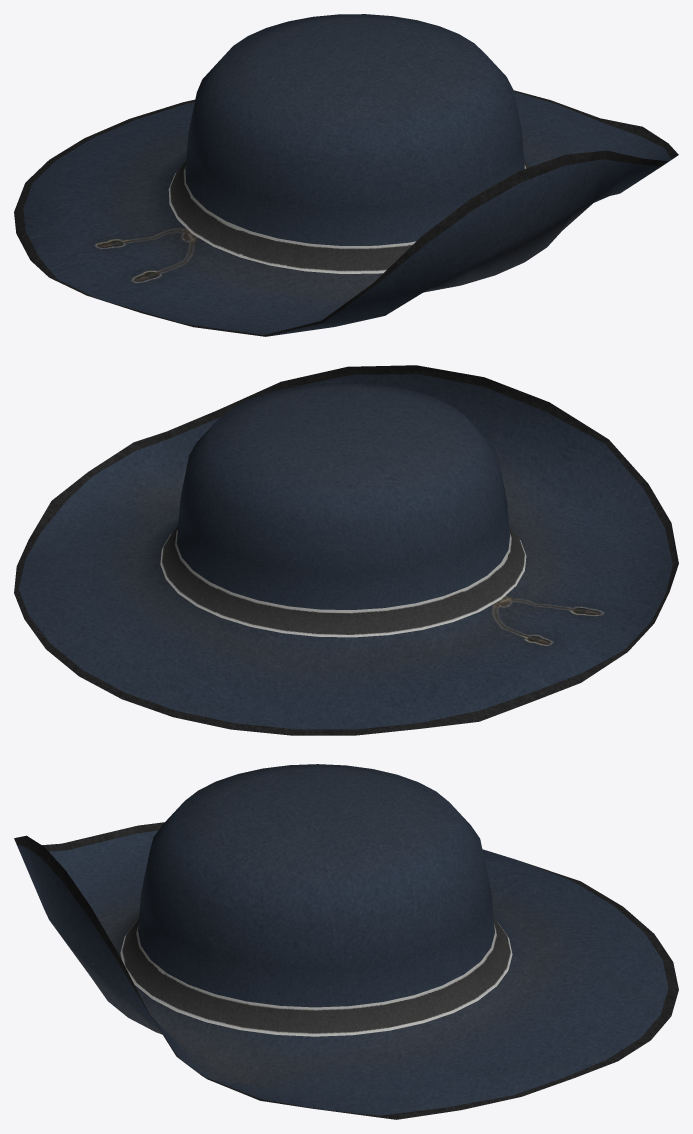
The model's file is m_slouchhat.fbx.
3 views of the same model, one above another, from view 1: azimuth 30°, elevation 25°; view 2: azimuth 150°, elevation 25°; view 3: azimuth 270°, elevation 25° (orthographic). The views are drawn at different scales.
Parts seen in each view (by area): view 1: Sphere; view 2: Sphere; view 3: Sphere.
Boxes of the visible parts, left/top/right/bottom form: Sphere: left=14, top=14, right=678, bottom=336; Sphere: left=14, top=365, right=678, bottom=735; Sphere: left=14, top=764, right=678, bottom=1119.
Size of the model in its own units: 0.0747 by 0.2395 by 0.2575.
